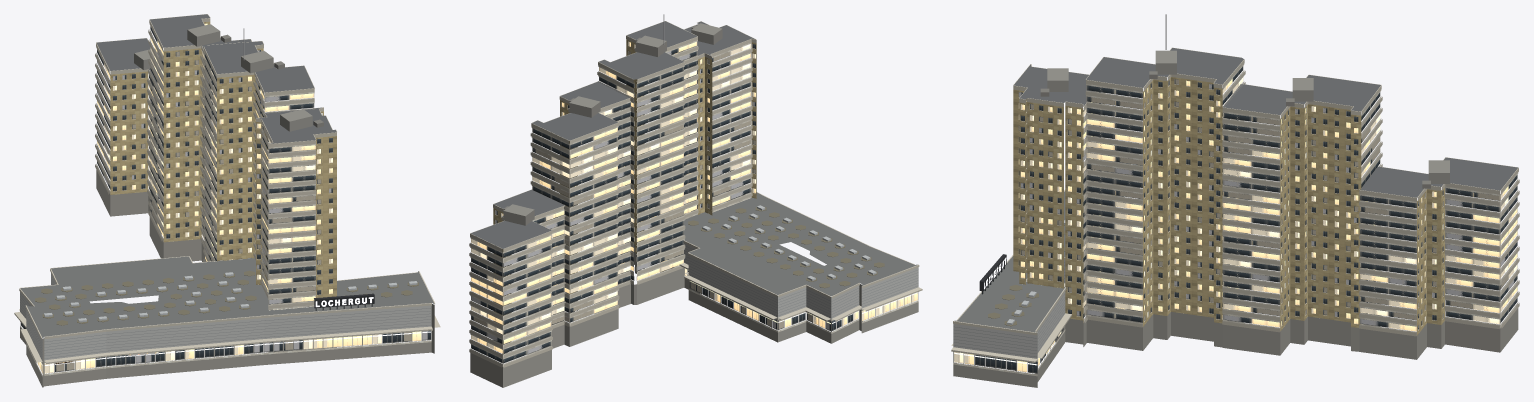
File: lochergut.glb
3 views of the same model, side by side, from view 1: azimuth 30°, elevation 25°; view 2: azimuth 150°, elevation 25°; view 3: azimuth 270°, elevation 25° (orthographic). The views are drawn at different scales.
Parts seen in each view (by area): view 1: lochergut; view 2: lochergut; view 3: lochergut.
Part boxes in pixels (x1=…): lochergut: x1=14, y1=14, x2=440, y2=387; lochergut: x1=469, y1=14, x2=922, y2=387; lochergut: x1=951, y1=14, x2=1519, y2=387.
Bounding box in the file's own units: 109 × 80.24 × 133.
Materials: 4 (4 with a texture image).
